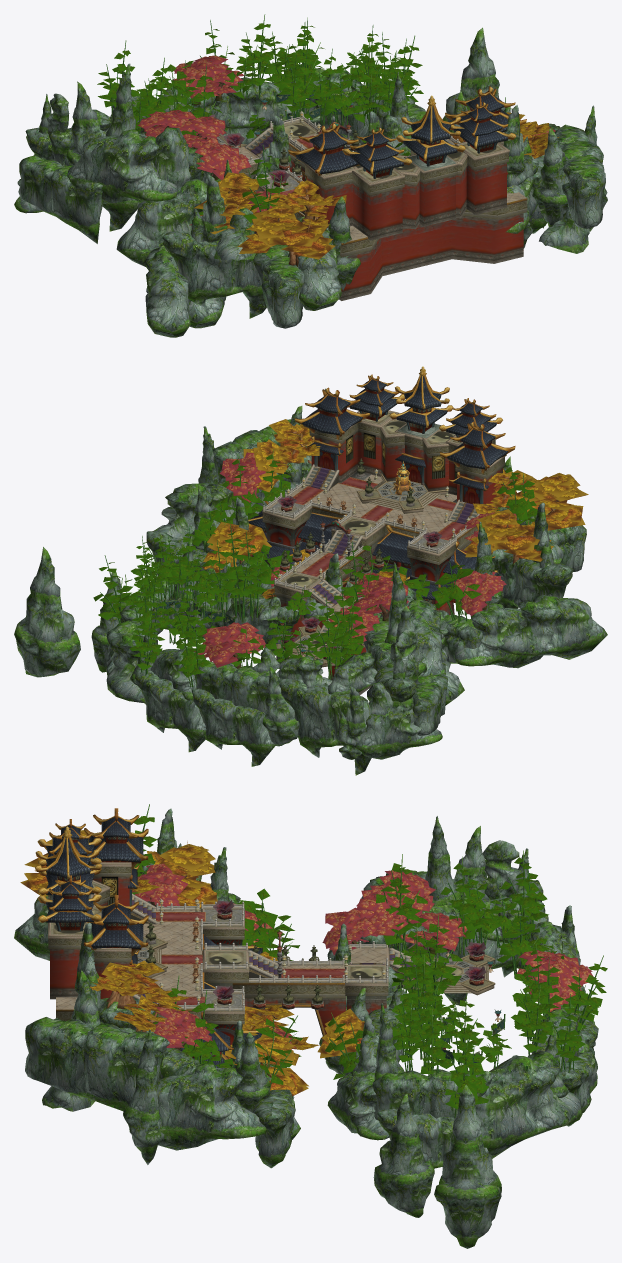
The picture shows the model from 3 angles, top to bottom: view 1: azimuth 30°, elevation 25°; view 2: azimuth 150°, elevation 25°; view 3: azimuth 270°, elevation 25°; orthographic projection. The views are drawn at different scales.
Parts seen in each view (by area): view 1: environment_stone_shanya_003_a8, environment_stone_shanya_003_a2, environment_stone_shanya_003_a7, environment_Tree_zhuzi_001_b01, environment_Building_shitai_009_d, environment_Building_daqiandian_001_c3, environment_stone_shanya_003_a6, environment_stone_shanya_003_a3, environment_stone_shanya_003_a5, environment_Tree_red_002_a, environment_stone_shanya_003_a1, environment_Tree_yellow_001_d1 (+17 smaller); view 2: environment_stone_shanya_003_a3, environment_stone_shanya_003_a2, environment_Tree_zhuzi_001_b01, environment_stone_shanya_003_a8, environment_stone_shanya_003_a6, environment_stone_shanya_003_a7, environment_Tree_yellow_001_d1, environment_Tree_zhuzi_001_a01, environment_Tree_red_002_a, environment_stone_shanya_003_a5, environment_Building_shitai_009_d, environment_Tree_zhuzi_001_b02 (+28 smaller); view 3: environment_Tree_zhuzi_001_b01, environment_stone_shanya_003_a6, environment_stone_shanya_003_a8, environment_Tree_red_002_a, environment_stone_shanya_003_a2, environment_stone_shanya_003_a7, environment_stone_shanya_003_a3, environment_Tree_yellow_001_d1, environment_Tree_zhuzi_001_a01, environment_stone_shanya_003_a4, environment_stone_shanya_003_a5, environment_Building_Gongdian_001_f02 (+26 smaller).
Boxes of the visible parts, <box> form: environment_stone_shanya_003_a8: <box>18,92,605,328</box>; environment_stone_shanya_003_a2: <box>14,77,560,337</box>; environment_stone_shanya_003_a7: <box>92,68,538,328</box>; environment_Tree_zhuzi_001_b01: <box>97,23,512,222</box>; environment_Building_shitai_009_d: <box>307,140,508,240</box>; environment_Building_daqiandian_001_c3: <box>339,213,523,300</box>; environment_stone_shanya_003_a6: <box>66,27,568,299</box>; environment_stone_shanya_003_a3: <box>25,127,546,318</box>; environment_stone_shanya_003_a5: <box>47,93,534,242</box>; environment_Tree_red_002_a: <box>137,55,555,225</box>; environment_stone_shanya_003_a1: <box>144,86,589,260</box>; environment_Tree_yellow_001_d1: <box>194,122,558,259</box>; environment_stone_shanya_003_a3: <box>105,473,573,775</box>; environment_stone_shanya_003_a2: <box>150,482,607,759</box>; environment_Tree_zhuzi_001_b01: <box>93,454,537,677</box>; environment_stone_shanya_003_a8: <box>120,419,586,735</box>; environment_stone_shanya_003_a6: <box>14,406,510,746</box>; environment_stone_shanya_003_a7: <box>106,455,555,705</box>; environment_Tree_yellow_001_d1: <box>202,439,588,598</box>; environment_Tree_zhuzi_001_a01: <box>126,497,481,668</box>; environment_Tree_red_002_a: <box>194,452,516,667</box>; environment_stone_shanya_003_a5: <box>208,388,553,759</box>; environment_Building_shitai_009_d: <box>276,431,502,663</box>; environment_Tree_zhuzi_001_b02: <box>100,449,529,687</box>; environment_Tree_zhuzi_001_b01: <box>132,816,607,1109</box>; environment_stone_shanya_003_a6: <box>73,826,588,1248</box>; environment_stone_shanya_003_a8: <box>25,895,585,1120</box>; environment_Tree_red_002_a: <box>132,863,593,1049</box>; environment_stone_shanya_003_a2: <box>157,870,590,1150</box>; environment_stone_shanya_003_a7: <box>14,896,581,1158</box>; environment_stone_shanya_003_a3: <box>120,875,598,1168</box>; environment_Tree_yellow_001_d1: <box>20,830,364,1096</box>; environment_Tree_zhuzi_001_a01: <box>200,883,563,1084</box>; environment_stone_shanya_003_a4: <box>123,816,569,1164</box>; environment_stone_shanya_003_a5: <box>74,808,580,1073</box>; environment_Building_Gongdian_001_f02: <box>52,817,143,949</box>.
Size of the model in its own units: 149 by 74.97 by 139.
